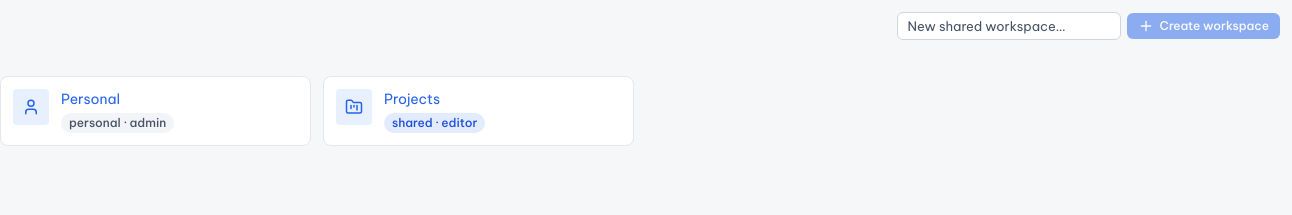
workspaces list › shows why a workspace could not be created
The image size is (1292, 215).
Type "Sales" into the field named "Workspace name" at [1009, 26], box x1=897 y1=12 x2=1121 y2=40
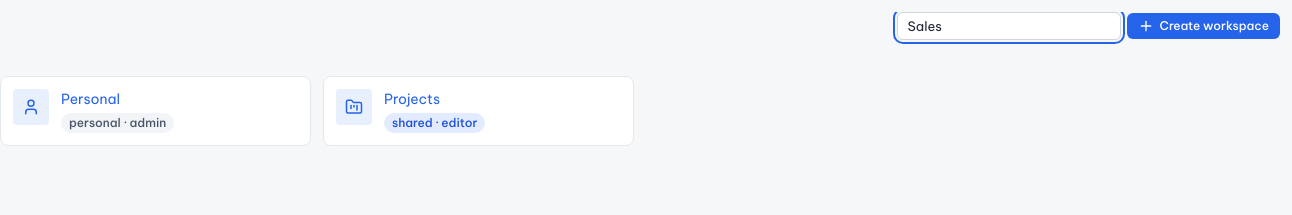
Click the button "Create workspace" at [1203, 26], box x1=1127 y1=13 x2=1280 y2=39
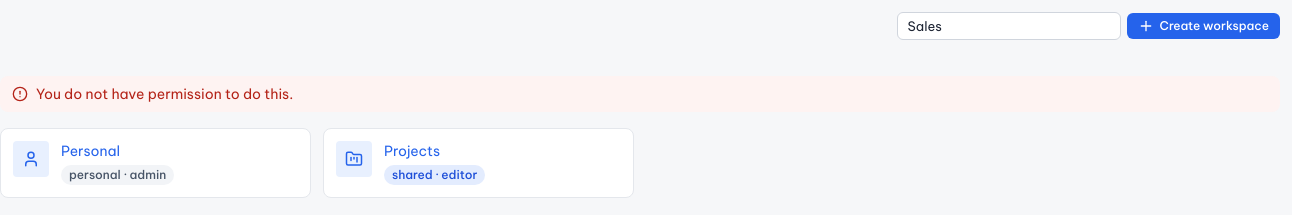
expect the text "You do not have permission to do this." is shown: met, box x1=36 y1=84 x2=293 y2=104
